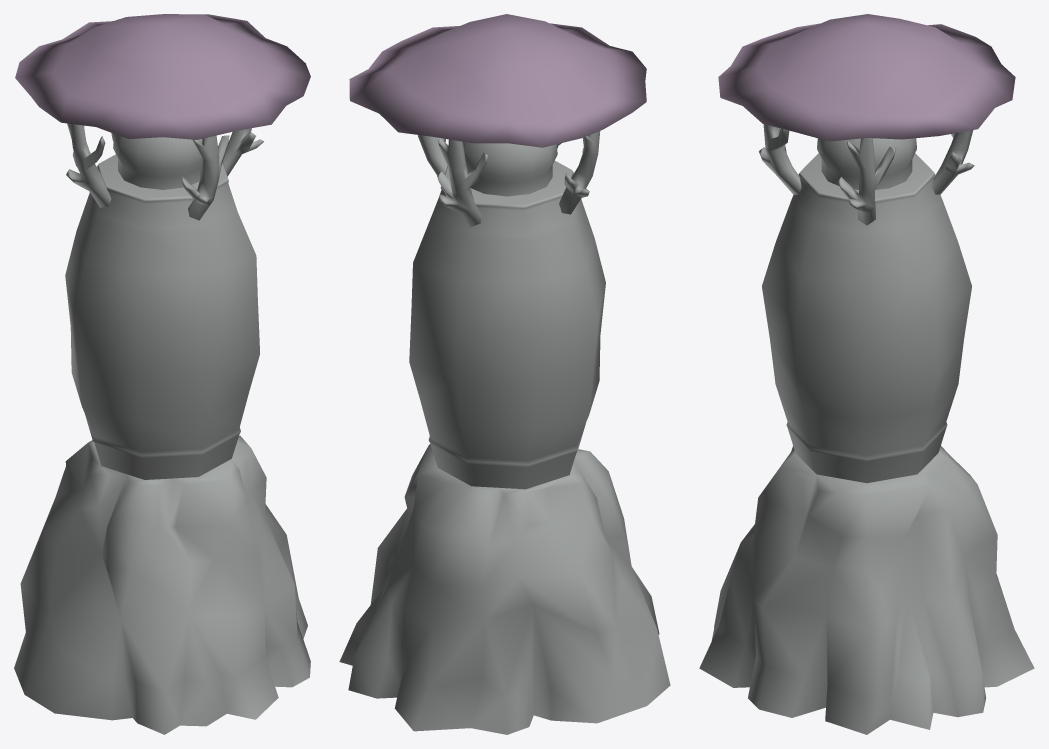
3 views of the same model, side by side, from view 1: azimuth 30°, elevation 25°; view 2: azimuth 150°, elevation 25°; view 3: azimuth 270°, elevation 25° (orthographic).
Parts seen in each view (by area): view 1: G:\FFXIV-MapTools\exports\e3f1\bg\ex2\02_est_e3\fld\e3f1\bgp (×5); view 2: G:\FFXIV-MapTools\exports\e3f1\bg\ex2\02_est_e3\fld\e3f1\bgp (×5); view 3: G:\FFXIV-MapTools\exports\e3f1\bg\ex2\02_est_e3\fld\e3f1\bgp (×5).
Boxes of the visible parts, x1=… form: G:\FFXIV-MapTools\exports\e3f1\bg\ex2\02_est_e3\fld\e3f1\bgp (×5): x1=14, y1=14, x2=310, y2=734; G:\FFXIV-MapTools\exports\e3f1\bg\ex2\02_est_e3\fld\e3f1\bgp (×5): x1=339, y1=14, x2=670, y2=734; G:\FFXIV-MapTools\exports\e3f1\bg\ex2\02_est_e3\fld\e3f1\bgp (×5): x1=699, y1=14, x2=1034, y2=734.
Size of the model in its own units: 4.24 by 9.15 by 4.32.
